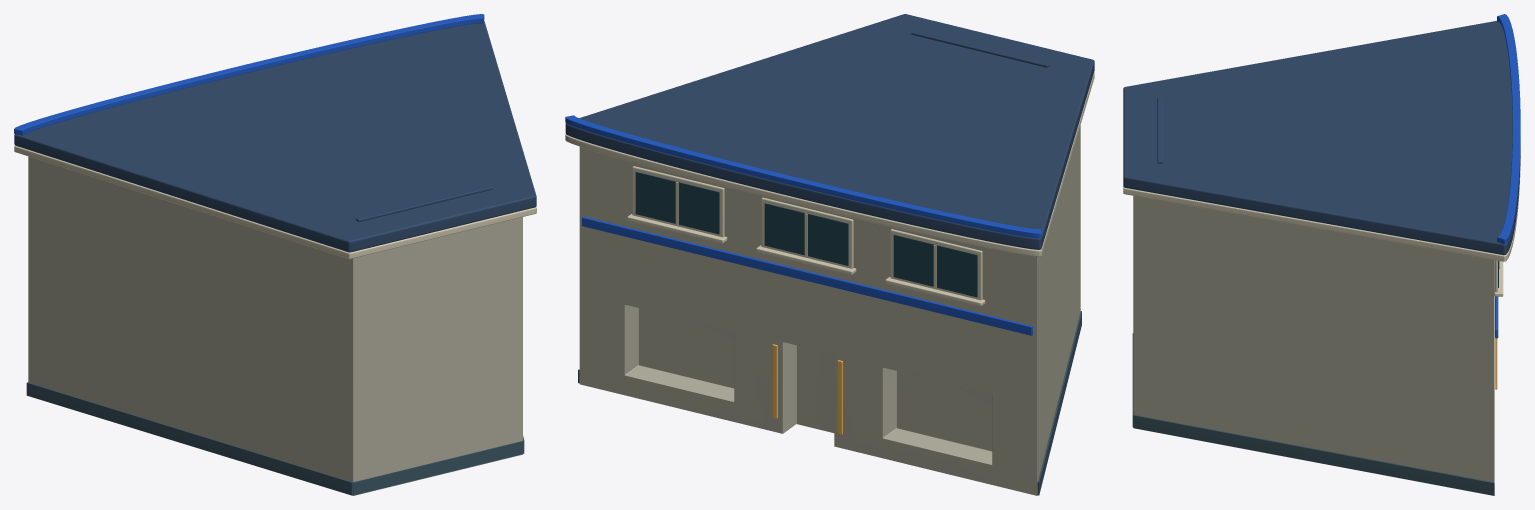
The model's file is d02_corner_shop_01.glb.
The picture shows the model from 3 angles, left to right: view 1: azimuth 30°, elevation 25°; view 2: azimuth 150°, elevation 25°; view 3: azimuth 270°, elevation 25°; orthographic projection. The views are drawn at different scales.
Visible parts, largest first — view 1: D02CornerShop01_Mesh; view 2: D02CornerShop01_Mesh; view 3: D02CornerShop01_Mesh.
Boxes of the visible parts, x1=… form: D02CornerShop01_Mesh: x1=14, y1=14, x2=536, y2=495; D02CornerShop01_Mesh: x1=565, y1=14, x2=1094, y2=495; D02CornerShop01_Mesh: x1=1123, y1=14, x2=1520, y2=495.
Size of the model in its own units: 13.29 by 7.18 by 9.9.
